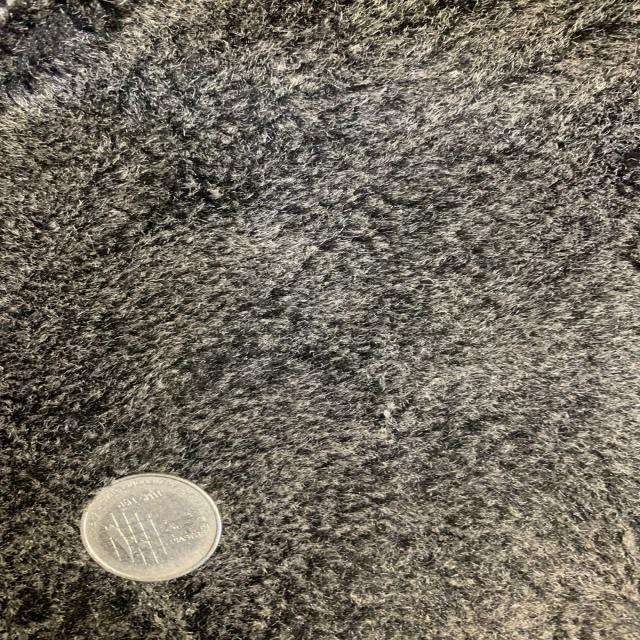10-coins: (79, 472, 222, 582)
